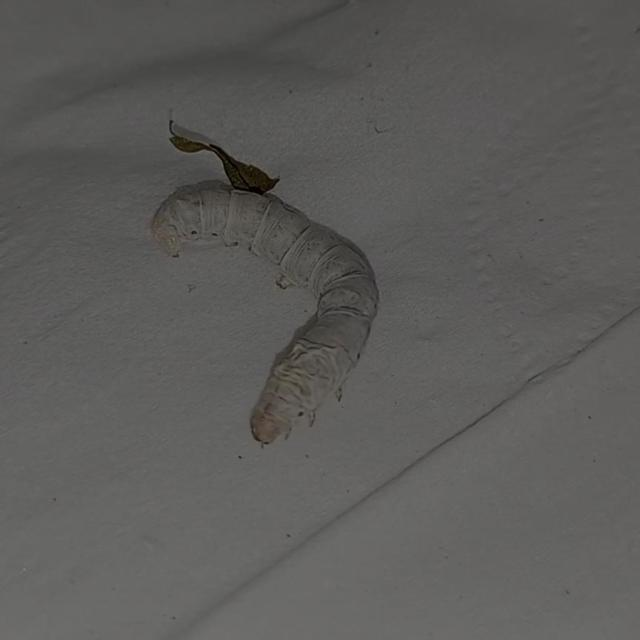Healthy: (135, 147, 435, 459)
